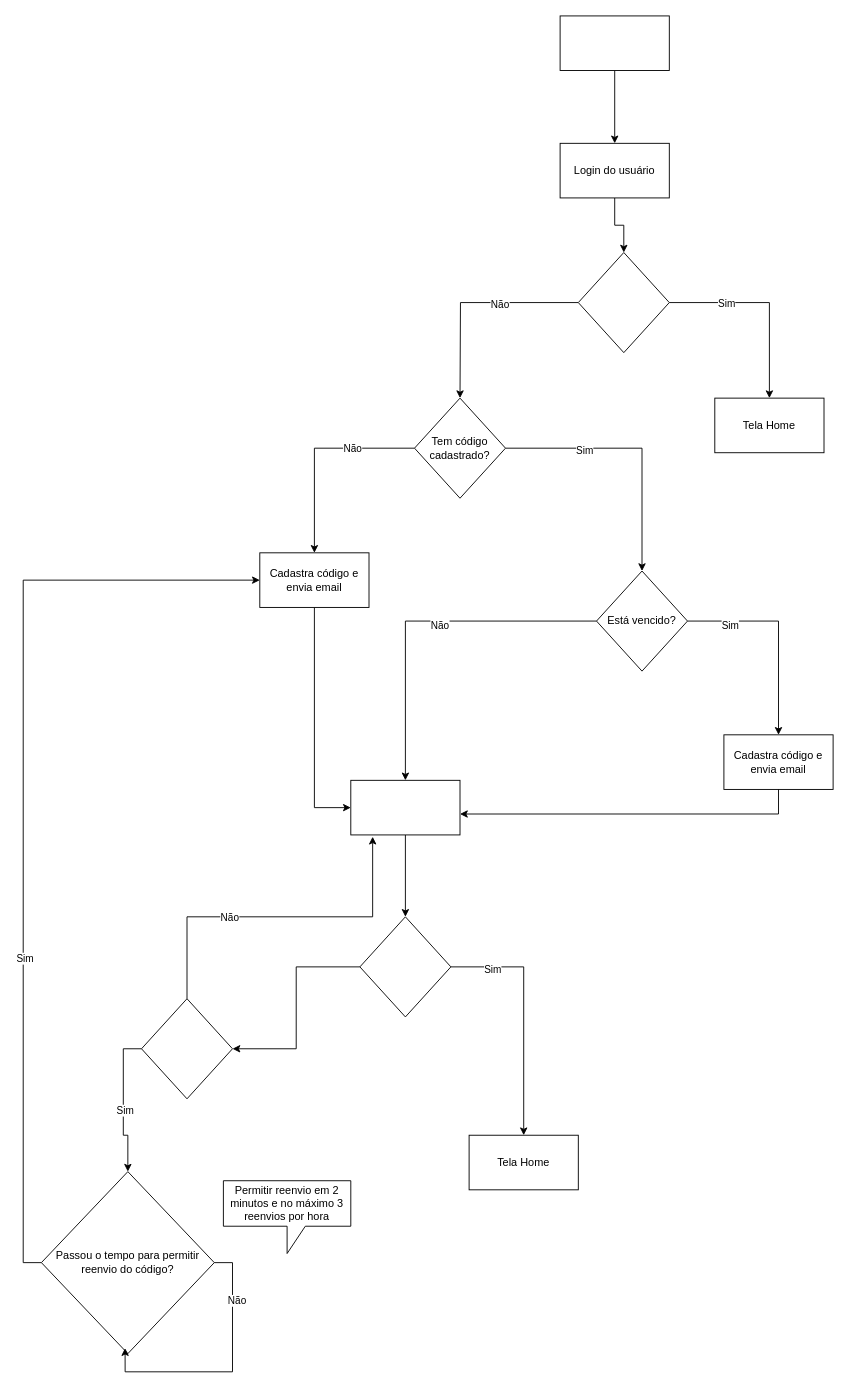
This 849x1395 diagram has some shape labels left out. Here are the shapes that lost their labels. From the top down, the centre of each, then its label:
At (x=614, y=43): "Cadastro do usuário".
At (x=623, y=302): "Está validado email?".
At (x=405, y=807): "Tela de validação do código".
At (x=405, y=966): "Validou?".
At (x=187, y=1048): "Excedeu as tentativas?".
